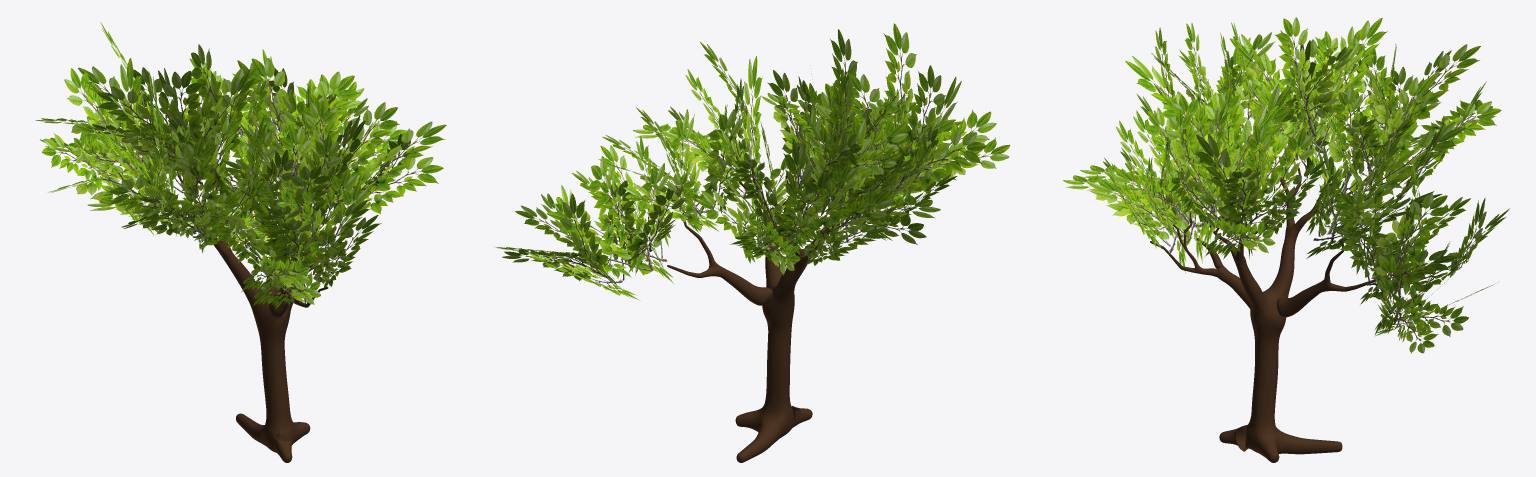
File: Tree_Type 1.fbx
3 views of the same model, side by side, from view 1: azimuth 30°, elevation 25°; view 2: azimuth 150°, elevation 25°; view 3: azimuth 270°, elevation 25° (orthographic).
Parts seen in each view (by area): view 1: Plane.010, Plane.012, Plane.011, Plane.014, Cube, Plane.013, Plane.009, Plane.005, Plane.006, Plane.008, Plane.007, Plane.004 (+2 smaller); view 2: Plane.012, Plane.009, Cube, Plane.011, Plane.001, Plane.003, Plane.005, Plane.008, Plane.010, Plane.004, Plane.007, Plane.013 (+2 smaller); view 3: Cube, Plane.010, Plane.011, Plane.001, Plane.004, Plane.006, Plane.009, Plane.005, Plane.003, Plane.007, Plane.014, Plane.012 (+2 smaller).
Boxes of the visible parts, x1,y1,x2,y2 form: Plane.010: [282, 91, 446, 222]; Plane.012: [108, 109, 268, 253]; Plane.011: [87, 44, 261, 188]; Plane.014: [218, 178, 381, 309]; Cube: [177, 172, 328, 462]; Plane.013: [208, 163, 370, 293]; Plane.009: [35, 22, 159, 190]; Plane.005: [189, 58, 364, 191]; Plane.006: [168, 124, 342, 250]; Plane.008: [48, 78, 181, 236]; Plane.007: [139, 108, 293, 241]; Plane.004: [75, 66, 240, 203]; Plane.012: [846, 23, 1009, 210]; Plane.009: [730, 138, 894, 275]; Cube: [667, 160, 843, 462]; Plane.011: [761, 29, 908, 206]; Plane.001: [547, 135, 685, 283]; Plane.003: [494, 156, 639, 300]; Plane.005: [602, 107, 751, 232]; Plane.008: [818, 116, 957, 254]; Plane.010: [633, 42, 763, 212]; Plane.004: [697, 122, 843, 266]; Plane.007: [802, 79, 925, 216]; Plane.013: [797, 81, 955, 227]; Cube: [1150, 167, 1375, 462]; Plane.010: [1170, 124, 1326, 259]; Plane.011: [1230, 17, 1366, 179]; Plane.001: [1331, 162, 1509, 304]; Plane.004: [1330, 69, 1486, 204]; Plane.006: [1144, 91, 1283, 253]; Plane.009: [1355, 44, 1501, 179]; Plane.005: [1306, 110, 1443, 258]; Plane.003: [1369, 197, 1498, 353]; Plane.007: [1162, 67, 1327, 213]; Plane.014: [1063, 94, 1191, 273]; Plane.012: [1125, 23, 1275, 159].
Bounding box in the file's own units: 757 × 727 × 763.
Materials: 10 (9 with a texture image).
